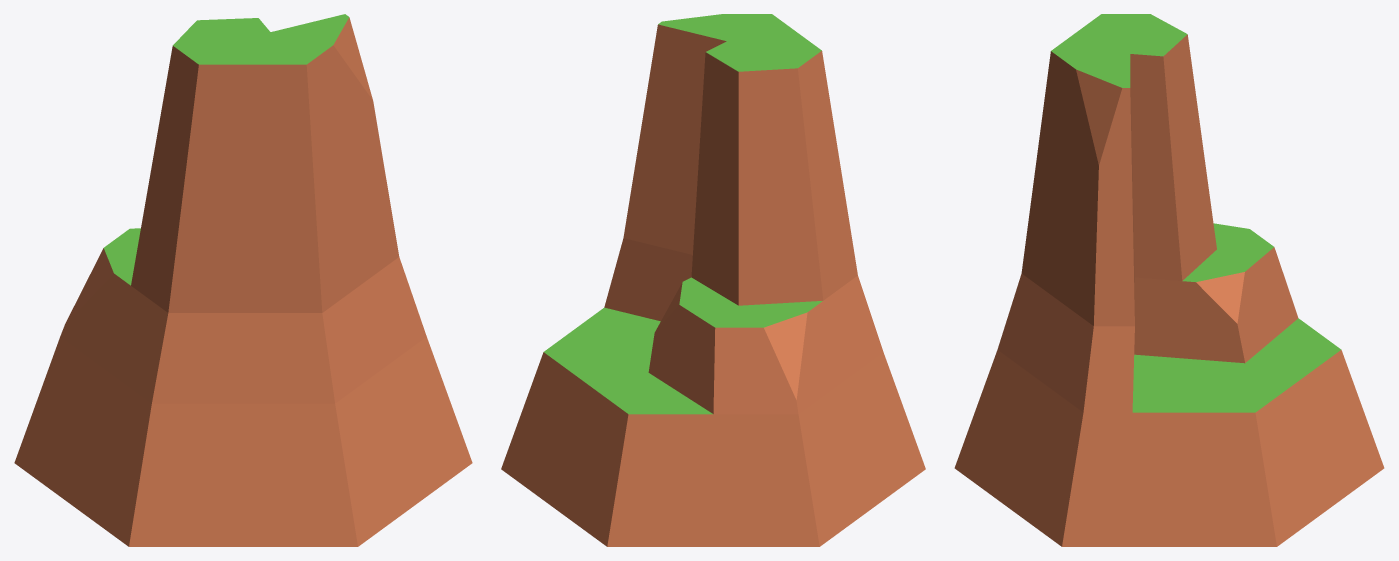
File: rock_tallH.glb
3 views of the same model, side by side, from view 1: azimuth 30°, elevation 25°; view 2: azimuth 150°, elevation 25°; view 3: azimuth 270°, elevation 25° (orthographic). The views are drawn at different scales.
Parts seen in each view (by area): view 1: rock_tallH; view 2: rock_tallH; view 3: rock_tallH.
Part boxes in pixels (bbox=[...]): rock_tallH: bbox=[14, 14, 472, 546]; rock_tallH: bbox=[501, 14, 925, 546]; rock_tallH: bbox=[954, 14, 1384, 546].
Size of the model in its own units: 0.5749 by 0.7108 by 0.6639.
